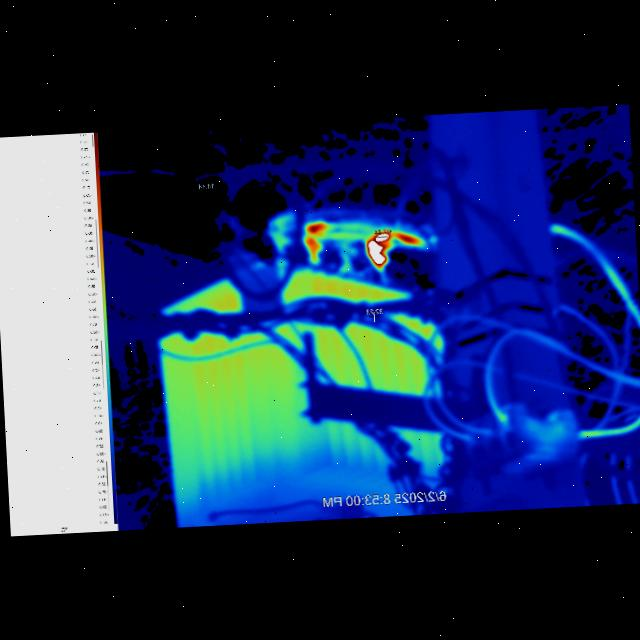loose_joint_red: (367, 230, 389, 269), (304, 221, 324, 261)
point_overload_red: (396, 231, 425, 245)
point_overload_yellow: (604, 261, 640, 324), (578, 415, 640, 437), (549, 223, 586, 242), (332, 233, 362, 238), (342, 223, 367, 229)
